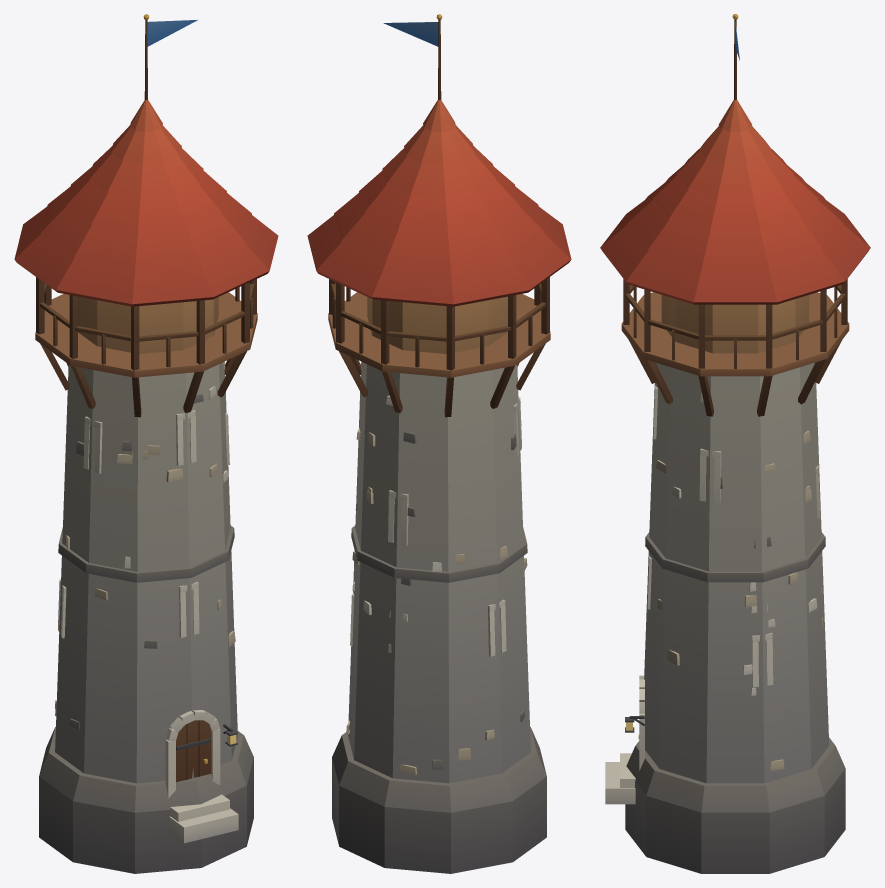
File: lm_watchtower.glb
The picture shows the model from 3 angles, left to right: view 1: azimuth 30°, elevation 25°; view 2: azimuth 150°, elevation 25°; view 3: azimuth 270°, elevation 25°; orthographic projection.
Visible parts, largest first — view 1: lm_watchtower; view 2: lm_watchtower; view 3: lm_watchtower.
Part boxes in pixels (x1,y1,x2,y2): lm_watchtower: (14, 14, 278, 873); lm_watchtower: (307, 14, 571, 873); lm_watchtower: (600, 14, 870, 873).
Size of the model in its own units: 20.57 by 71.87 by 21.63.
1 material, 1 textured.
